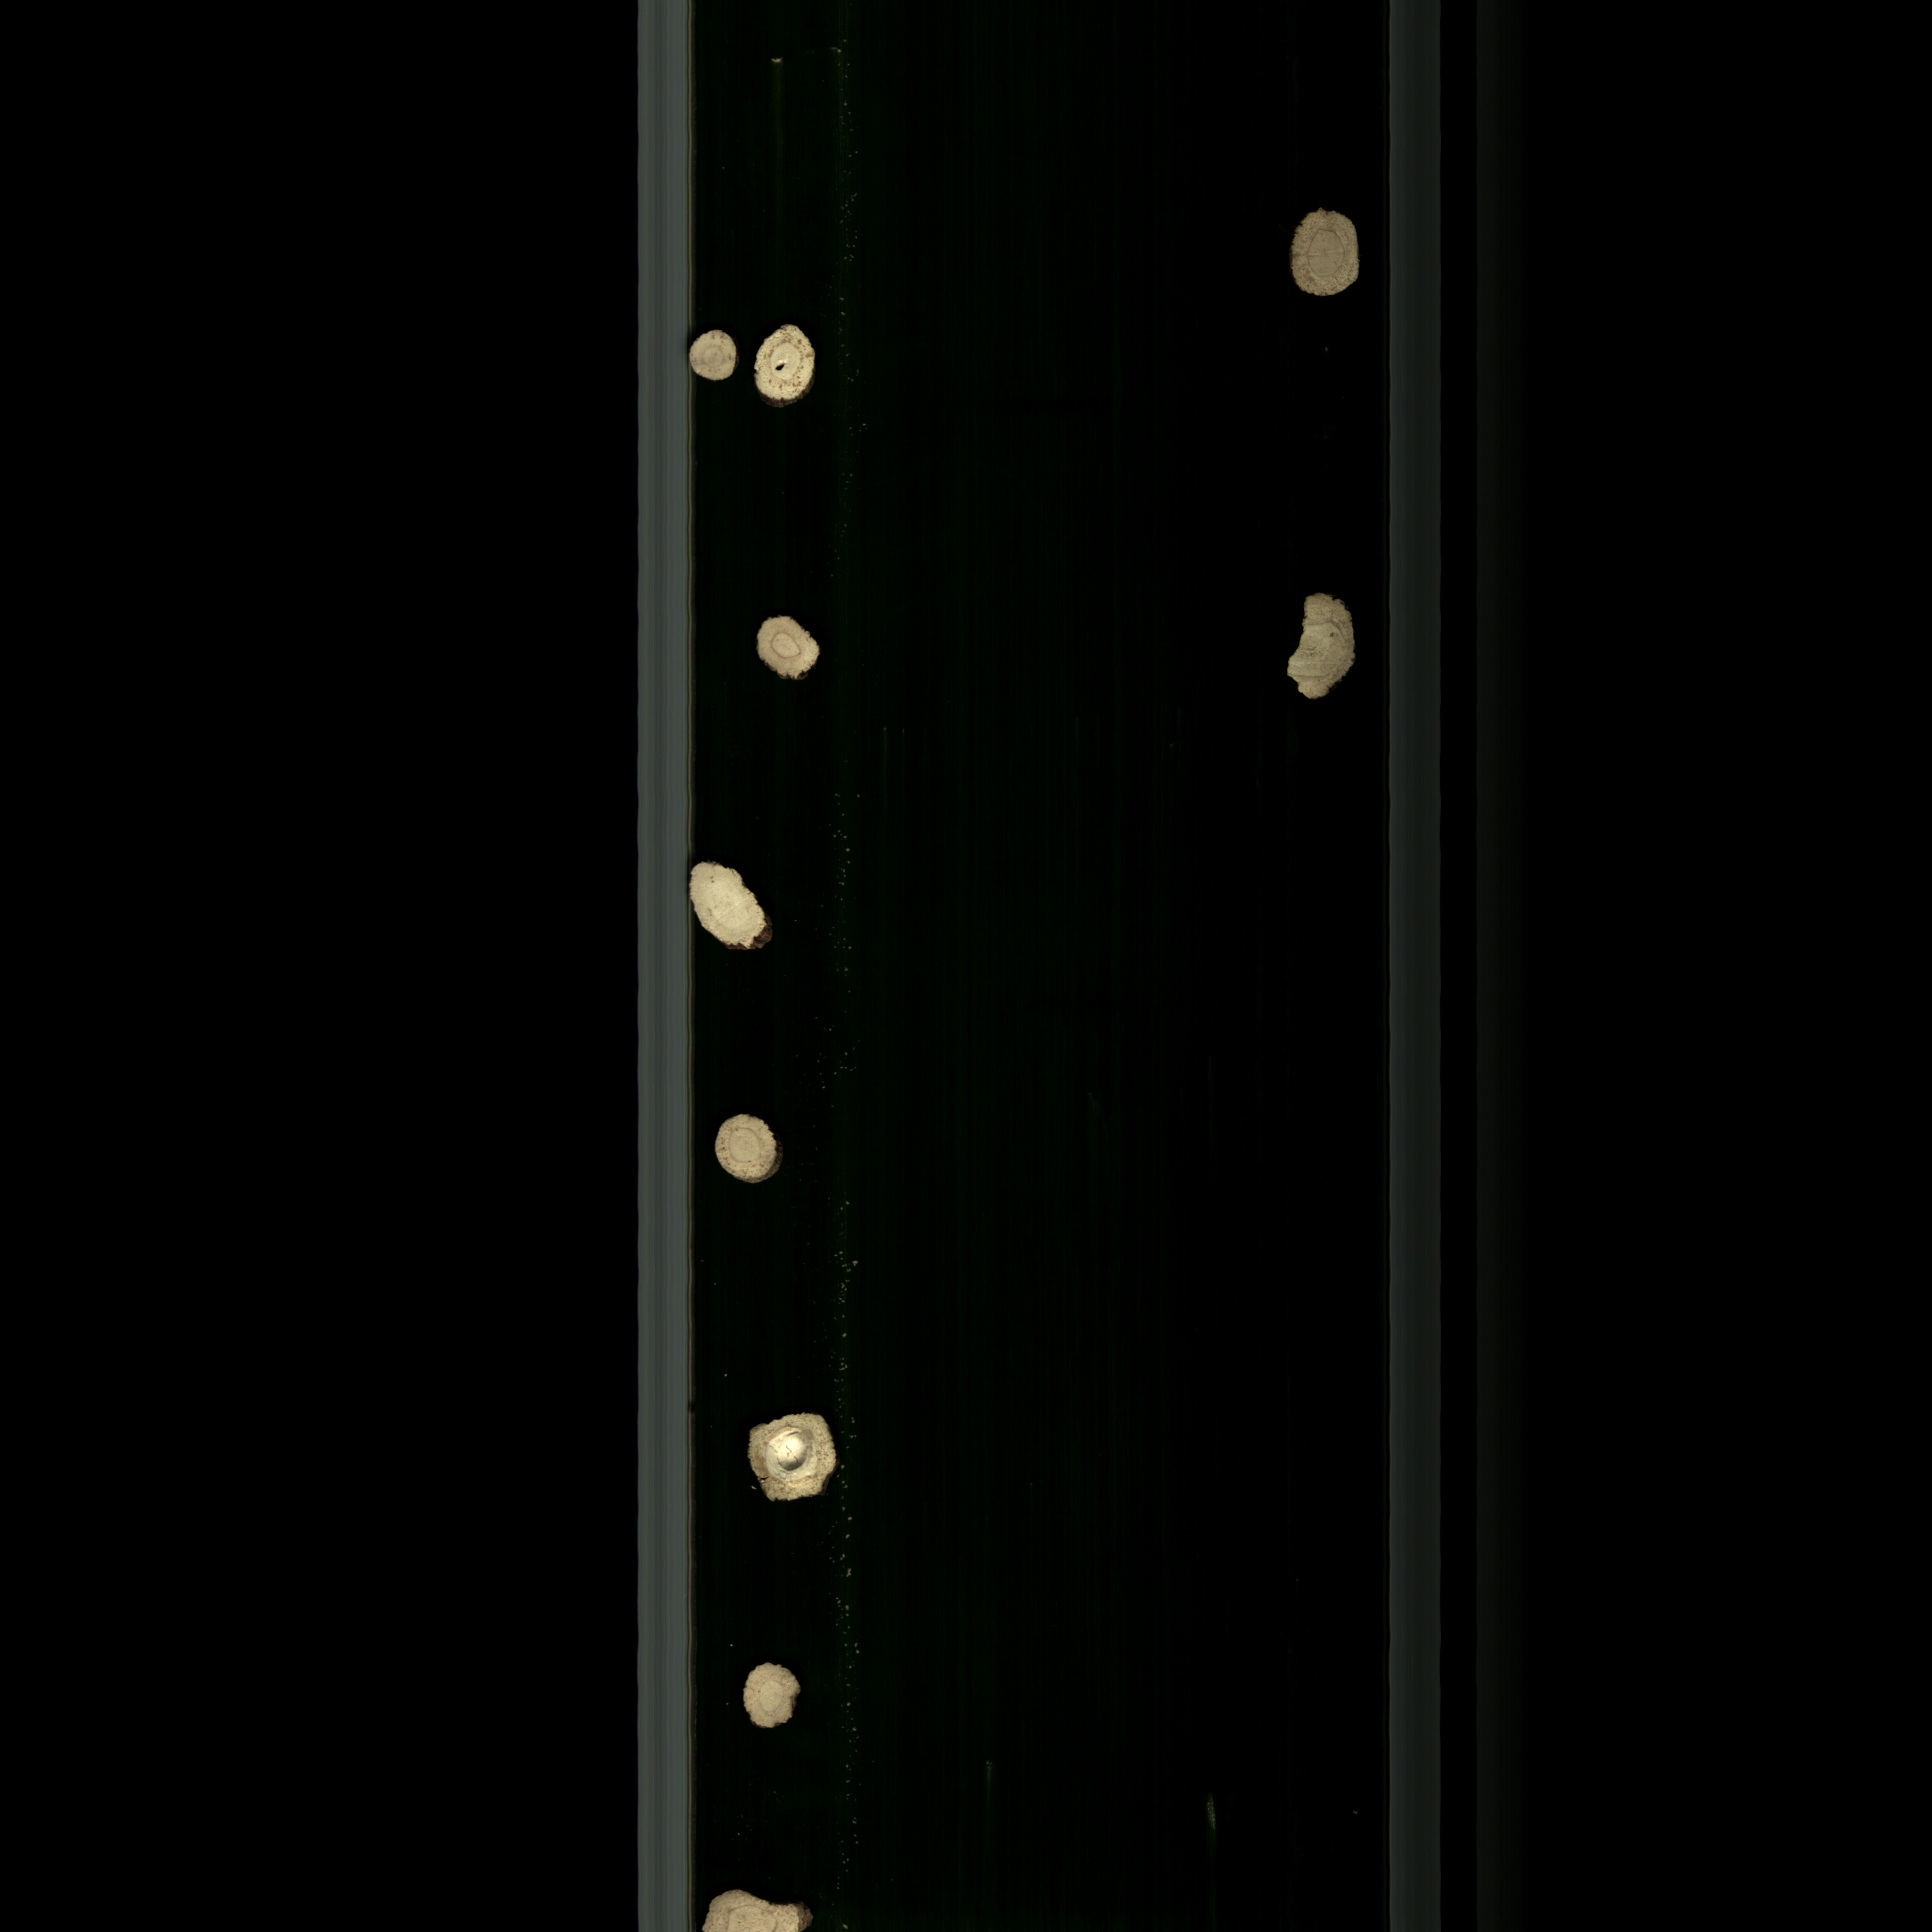debris: (1274, 586, 1366, 711), (688, 858, 778, 955), (692, 1875, 819, 1932), (734, 1658, 801, 1737)
distortion: (741, 612, 832, 688)
hole: (736, 1412, 842, 1516), (748, 318, 826, 419)
